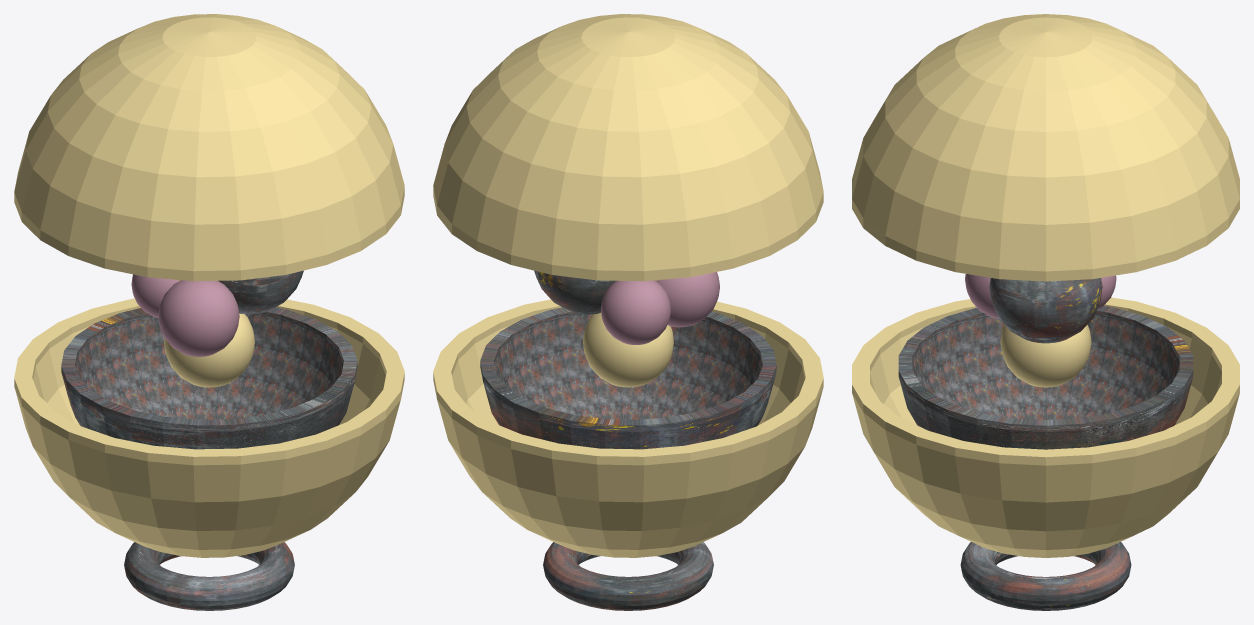
Rendered from intensity2All.fbx.
3 views of the same model, side by side, from view 1: azimuth 30°, elevation 25°; view 2: azimuth 150°, elevation 25°; view 3: azimuth 270°, elevation 25° (orthographic).
Visible parts, largest first — view 1: Sphère, Sphère_1, Sphère_2, Tore, Sphère_6, Sphère_3, Sphère_4, Sphère_5; view 2: Sphère, Sphère_1, Sphère_2, Tore, Sphère_3, Sphère_5, Sphère_6, Sphère_4; view 3: Sphère, Sphère_1, Sphère_2, Tore, Sphère_4, Sphère_3, Sphère_6.
Boxes of the visible parts, box(x1,y1,x2,y2) form: Sphère: box(14, 14, 404, 281); Sphère_1: box(14, 298, 404, 557); Sphère_2: box(61, 307, 357, 449); Tore: box(124, 542, 294, 610); Sphère_6: box(158, 280, 239, 356); Sphère_3: box(164, 313, 254, 387); Sphère_4: box(218, 270, 303, 314); Sphère_5: box(131, 274, 178, 318); Sphère: box(433, 14, 823, 281); Sphère_1: box(433, 299, 823, 557); Sphère_2: box(480, 307, 776, 449); Tore: box(543, 542, 713, 610); Sphère_3: box(583, 312, 673, 387); Sphère_5: box(601, 280, 670, 344); Sphère_6: box(656, 272, 719, 327); Sphère_4: box(534, 270, 616, 314); Sphère: box(852, 14, 1239, 281); Sphère_1: box(852, 297, 1239, 557); Sphère_2: box(898, 306, 1193, 449); Tore: box(960, 542, 1131, 610); Sphère_4: box(989, 278, 1102, 343); Sphère_3: box(1000, 325, 1091, 387); Sphère_6: box(965, 274, 999, 319).
Size of the model in its own units: 10.94 by 16.92 by 10.86.
Materials: 3 (1 with a texture image).
